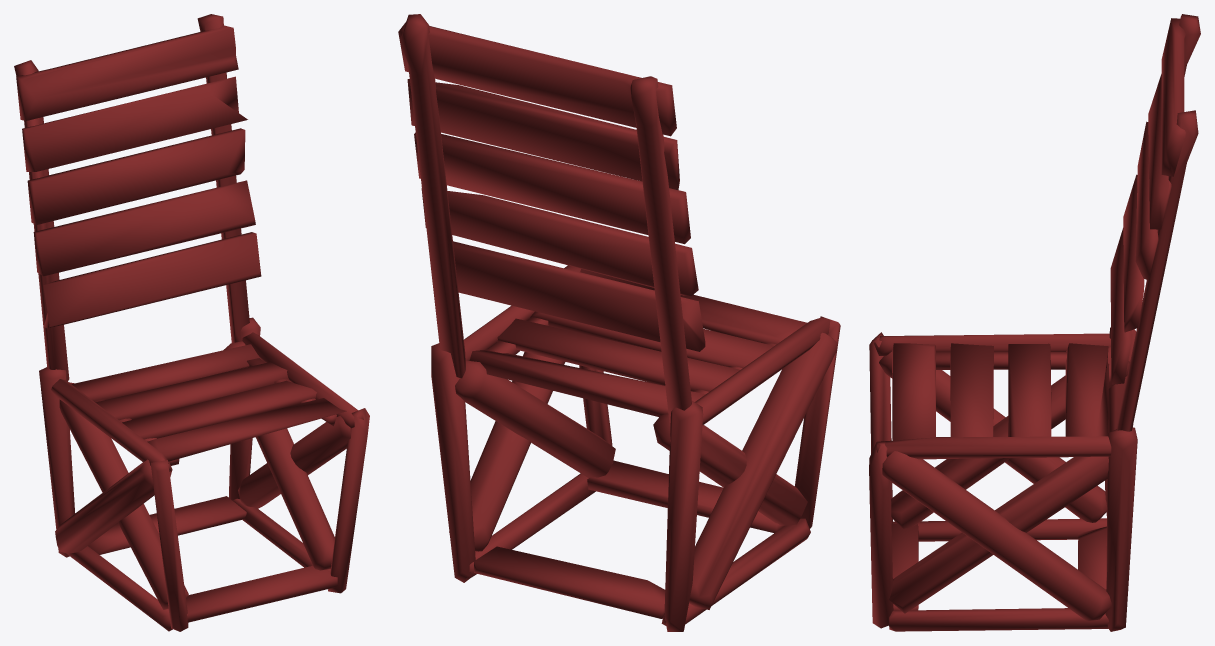
The model's file is SM_chair.fbx.
3 renders of one model, left to right at view 1: azimuth 30°, elevation 25°; view 2: azimuth 150°, elevation 25°; view 3: azimuth 270°, elevation 25°, orthographic. The views are drawn at different scales.
Visible parts, largest first — view 1: chair; view 2: chair; view 3: chair.
Part boxes in pixels (box(x1,y1,x2,y2)): chair: box(14, 14, 369, 631); chair: box(398, 14, 840, 631); chair: box(869, 14, 1200, 631).
Bounding box in the file's own units: 83.02 × 168 × 96.98.
